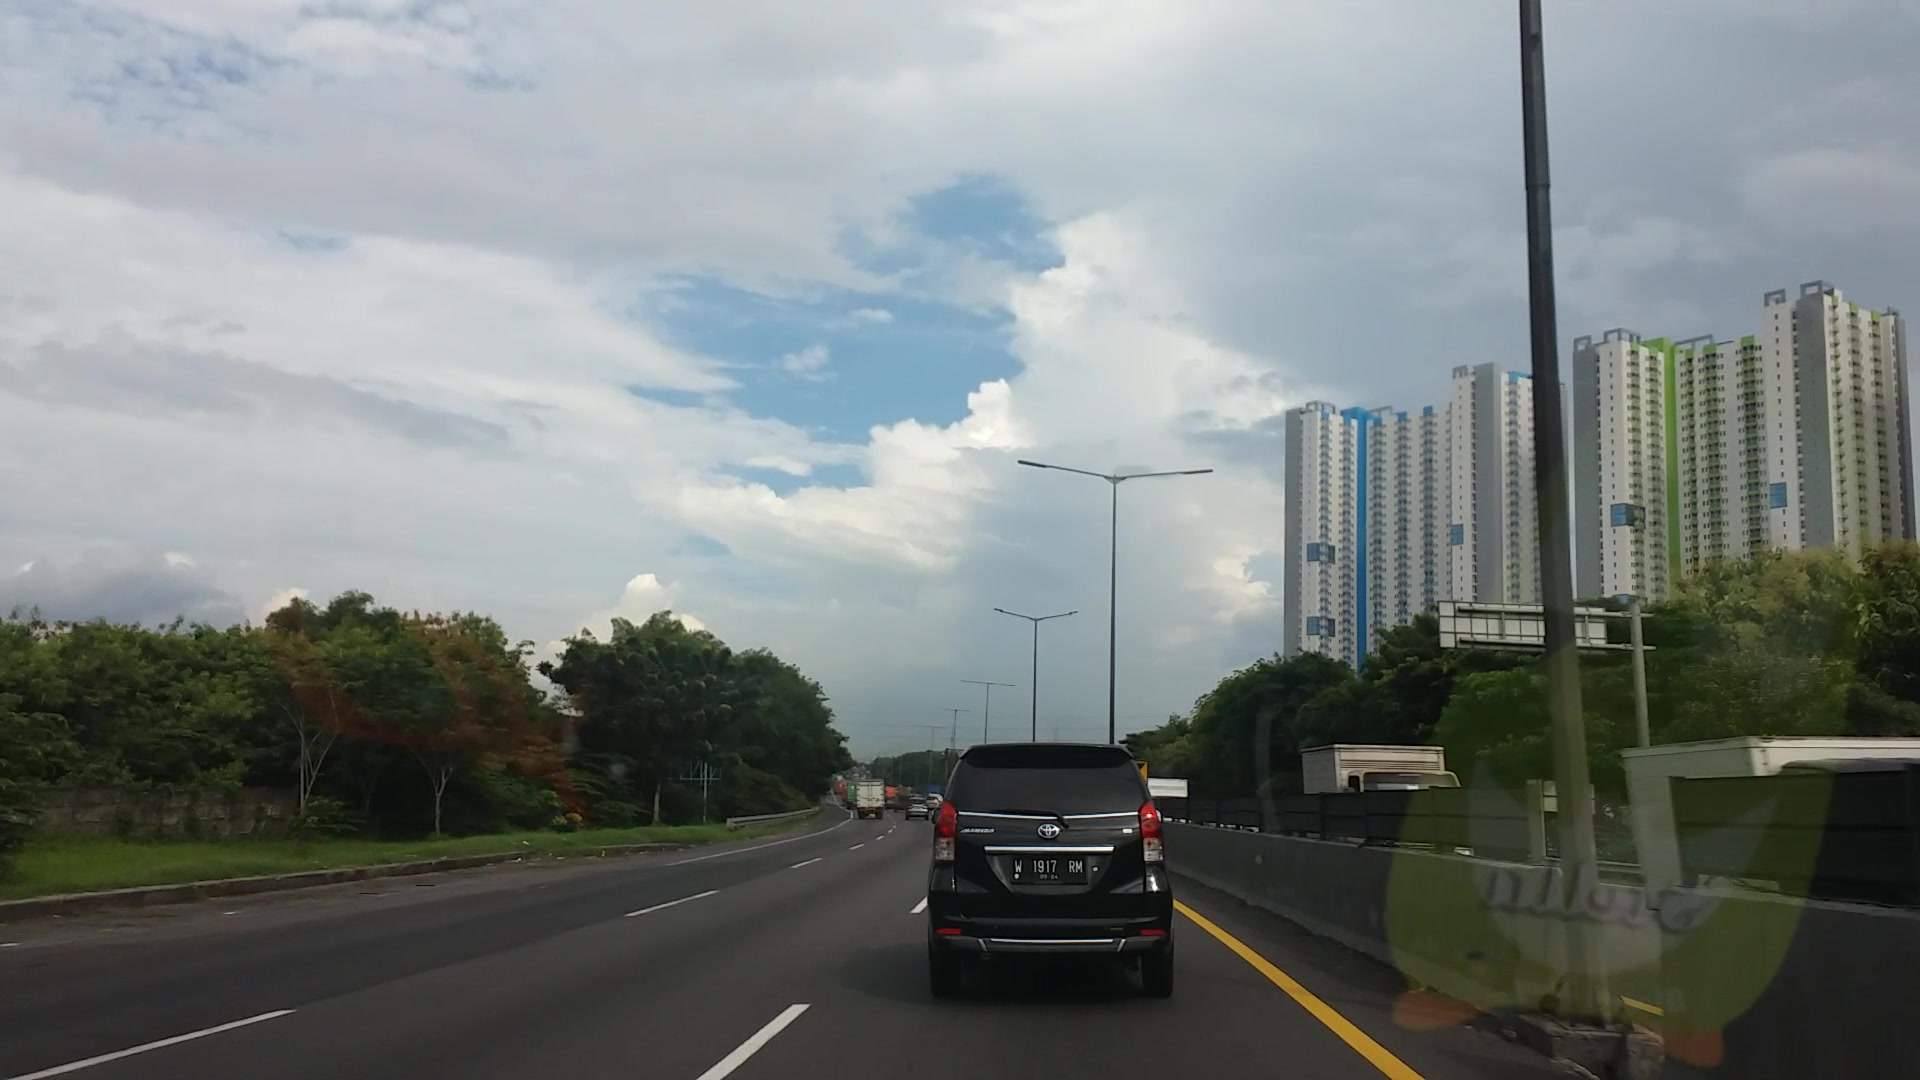plate_positive: (1010, 855, 1087, 881)
